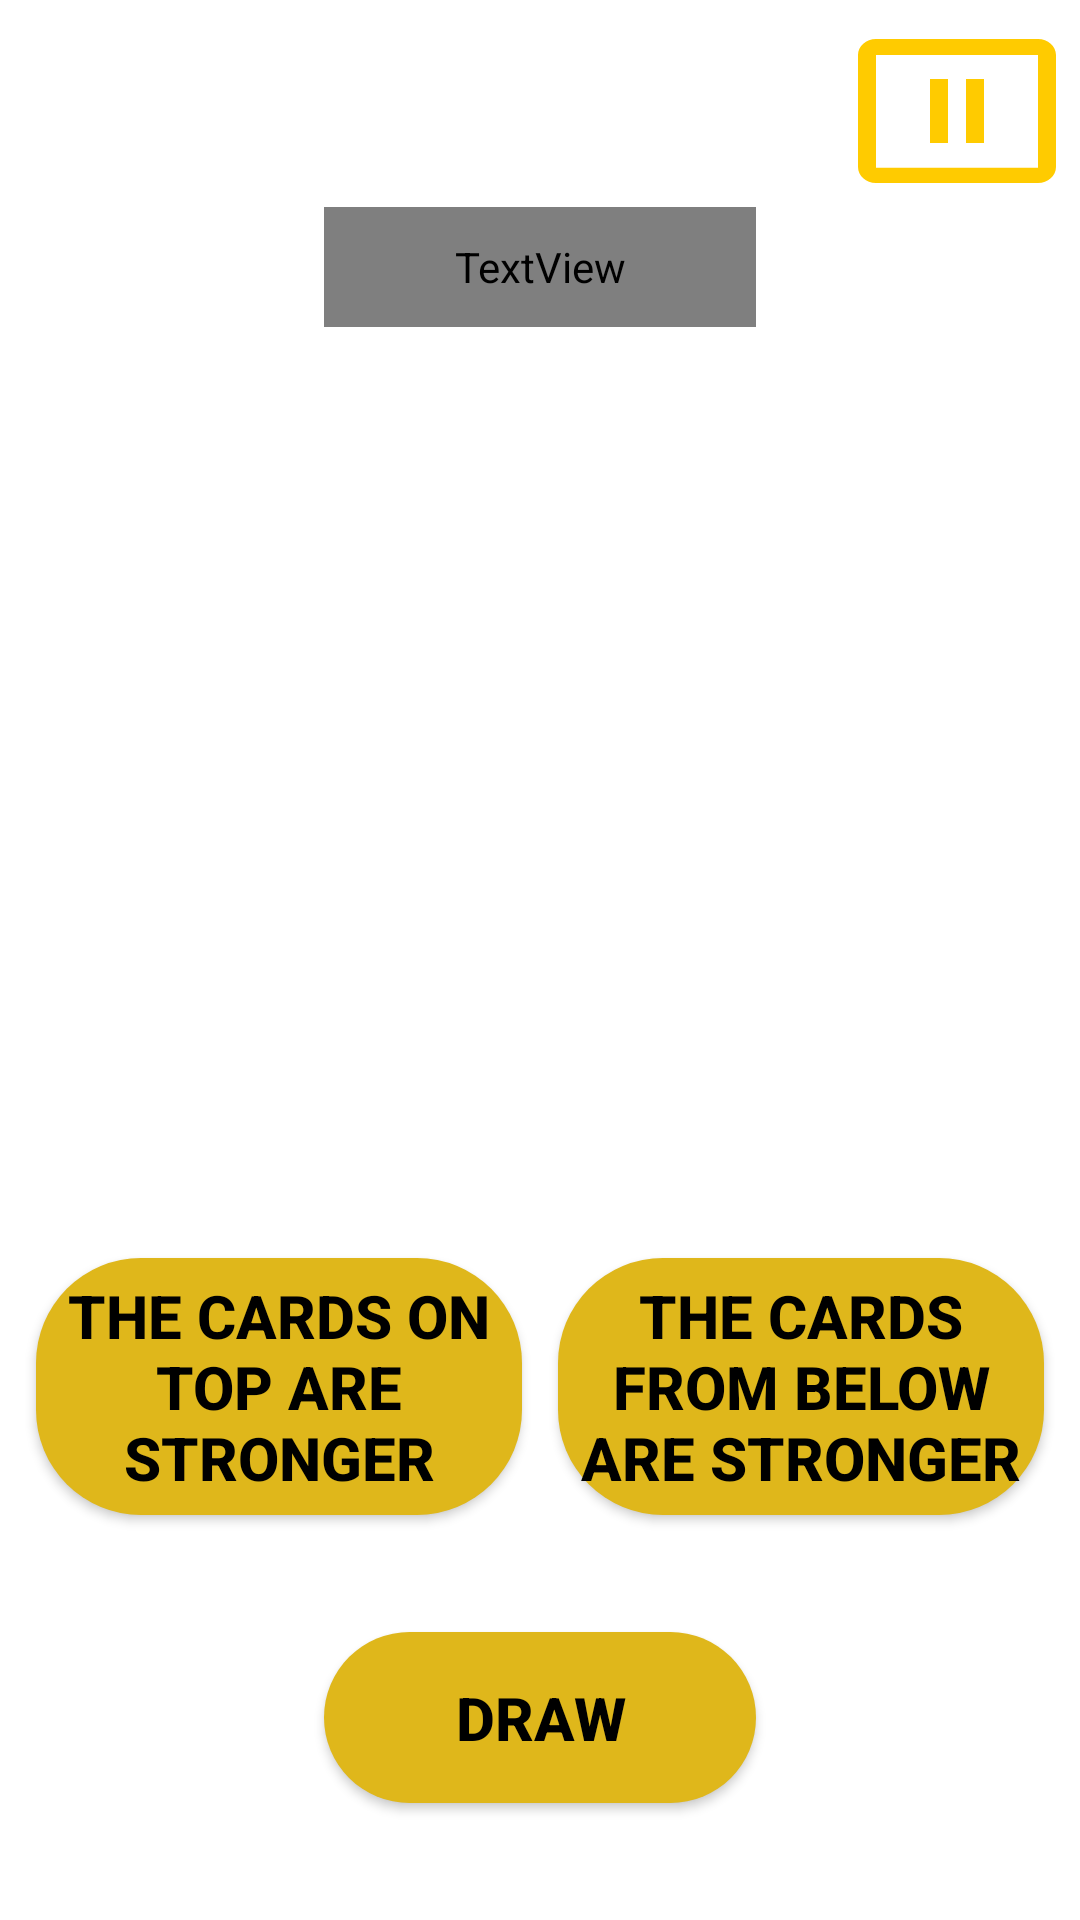

Point at icon controls on the screen. Image size 1080*1920, points as (x=x, y=y).
pause: (x=957, y=111)
